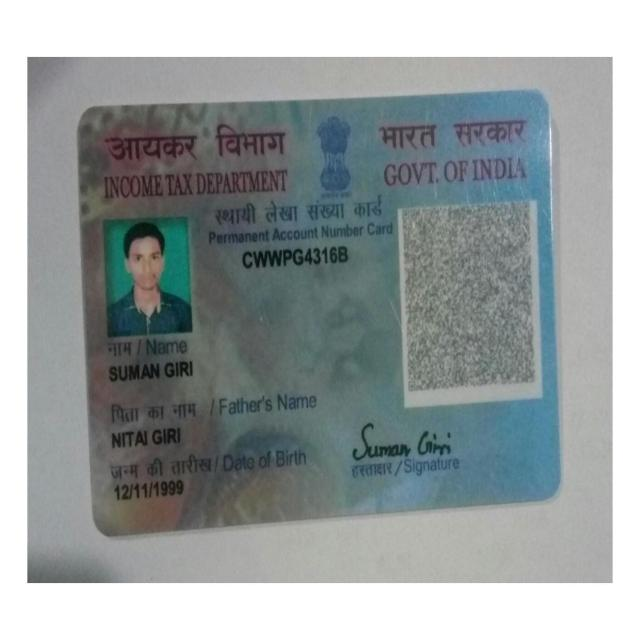pan_card: (79, 93, 555, 528)
